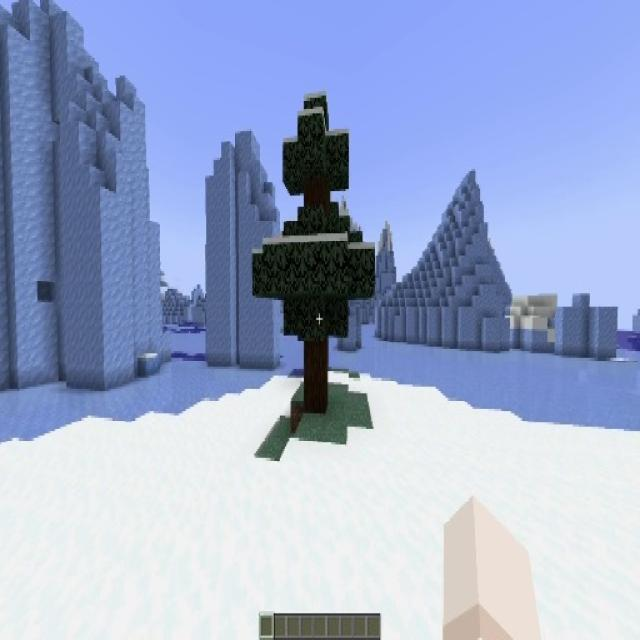spruce: (251, 94, 373, 412)
spruce_log: (304, 338, 329, 411)
